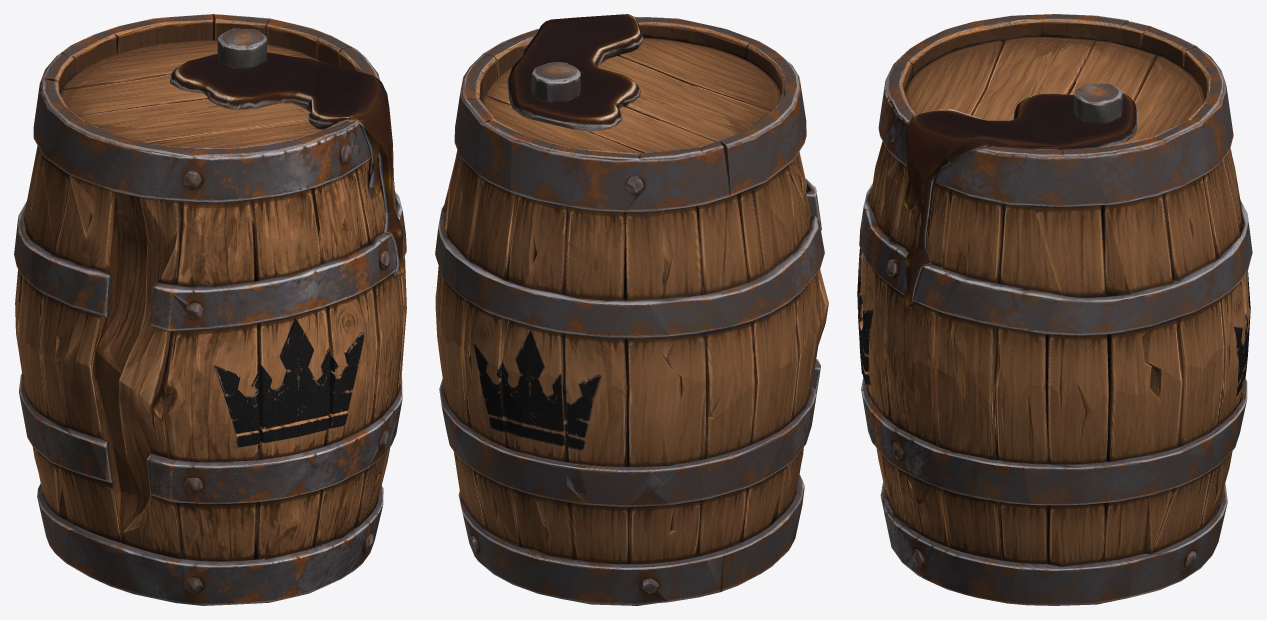
File: Barrel.fbx
3 views of the same model, side by side, from view 1: azimuth 30°, elevation 25°; view 2: azimuth 150°, elevation 25°; view 3: azimuth 270°, elevation 25° (orthographic).
Parts seen in each view (by area): view 1: Barrel; view 2: Barrel; view 3: Barrel.
Part boxes in pixels (x1,y1,x2,y2): Barrel: (14,14,406,605); Barrel: (435,14,828,605); Barrel: (857,14,1252,605).
Size of the model in its own units: 0.7522 by 1 by 0.7561.
Materials: 1 (1 with a texture image).
